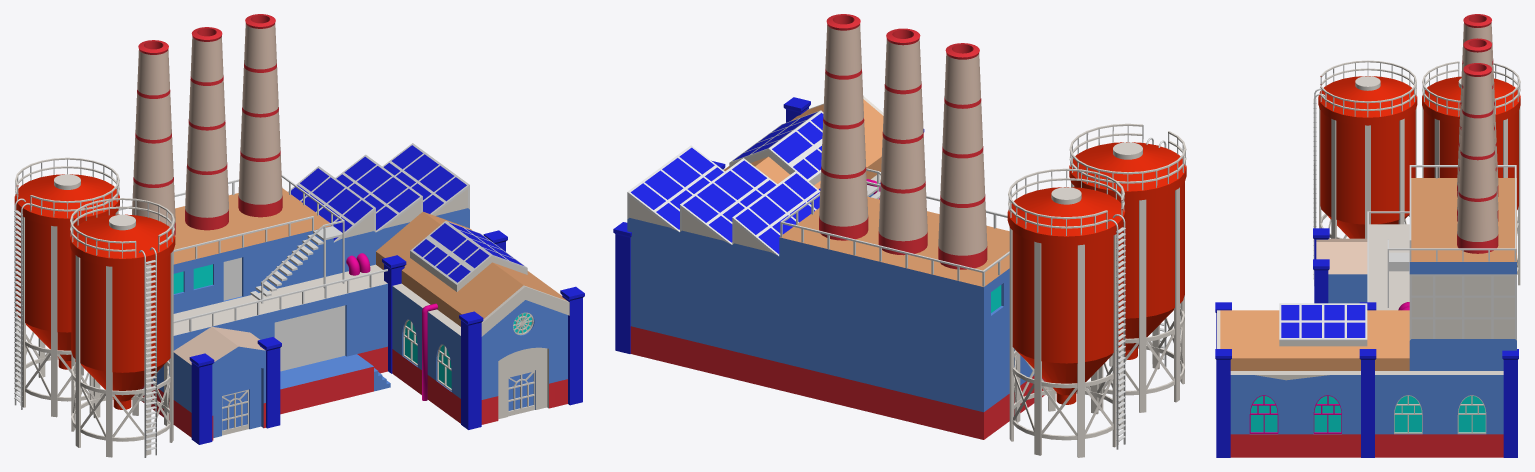
The model's file is FactorySilo.fbx.
3 renders of one model, left to right at view 1: azimuth 30°, elevation 25°; view 2: azimuth 150°, elevation 25°; view 3: azimuth 270°, elevation 25°, orthographic. The views are drawn at different scales.
Parts seen in each view (by area): view 1: Wall Body, Chimneys Body, Silo2, Roof, Gray Areas, SolarPanels, Outer Columns, Silo, Downwall, Silo Structure 2, Gates, Metal Frames (+20 smaller); view 2: Wall Body, Chimneys Body, Silo, Downwall, SolarPanels, Silo2, Silo Structure, Roof, Chimneys Ring, Metal Frames, Silo Structure 2, Silo Black (+8 smaller); view 3: Wall Body, Roof, Silo2, Gray Areas, Chimneys Body, Downwall, Outer Columns, Silo, Windows, Metal Frames, SolarPanels, Silo Structure 2 (+13 smaller).
Boxes of the visible parts, x1=… form: Wall Body: x1=152, y1=208, x2=567, y2=428; Chimneys Body: x1=132, y1=23, x2=282, y2=226; Silo2: x1=70, y1=214, x2=175, y2=409; Roof: x1=173, y1=188, x2=566, y2=326; Gray Areas: x1=173, y1=189, x2=569, y2=419; SolarPanels: x1=291, y1=145, x2=523, y2=282; Outer Columns: x1=189, y1=230, x2=584, y2=444; Silo: x1=14, y1=174, x2=119, y2=369; Downwall: x1=140, y1=346, x2=567, y2=440; Silo Structure 2: x1=71, y1=250, x2=173, y2=457; Gates: x1=223, y1=257, x2=345, y2=371; Metal Frames: x1=288, y1=143, x2=527, y2=286; Wall Body: x1=627, y1=182, x2=1034, y2=412; Chimneys Body: x1=819, y1=24, x2=987, y2=255; Silo: x1=1007, y1=187, x2=1125, y2=404; Downwall: x1=630, y1=326, x2=1046, y2=439; SolarPanels: x1=631, y1=112, x2=823, y2=253; Silo2: x1=1069, y1=142, x2=1186, y2=359; Silo Structure: x1=1009, y1=228, x2=1123, y2=457; Roof: x1=724, y1=99, x2=1009, y2=286; Chimneys Ring: x1=819, y1=14, x2=987, y2=269; Metal Frames: x1=627, y1=110, x2=823, y2=256; Silo Structure 2: x1=1071, y1=182, x2=1184, y2=412; Silo Black: x1=1008, y1=168, x2=1124, y2=440; Wall Body: x1=1230, y1=262, x2=1516, y2=434; Roof: x1=1220, y1=178, x2=1516, y2=370; Silo2: x1=1318, y1=76, x2=1417, y2=238; Gray Areas: x1=1217, y1=224, x2=1514, y2=380; Chimneys Body: x1=1457, y1=23, x2=1498, y2=241; Downwall: x1=1230, y1=434, x2=1503, y2=457; Outer Columns: x1=1215, y1=228, x2=1518, y2=457; Silo: x1=1422, y1=76, x2=1520, y2=209; Windows: x1=1249, y1=396, x2=1485, y2=432; Metal Frames: x1=1279, y1=274, x2=1516, y2=340; SolarPanels: x1=1281, y1=305, x2=1365, y2=337; Silo Structure 2: x1=1319, y1=107, x2=1416, y2=238.
Size of the model in its own units: 2717 by 1961 by 1774.
